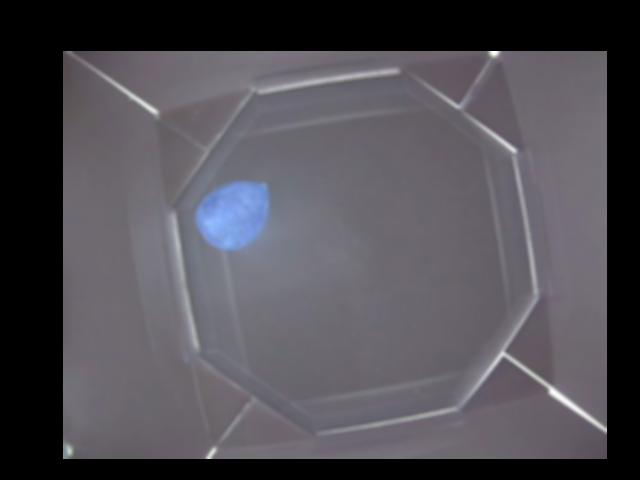Potato: (194, 180, 268, 251)
